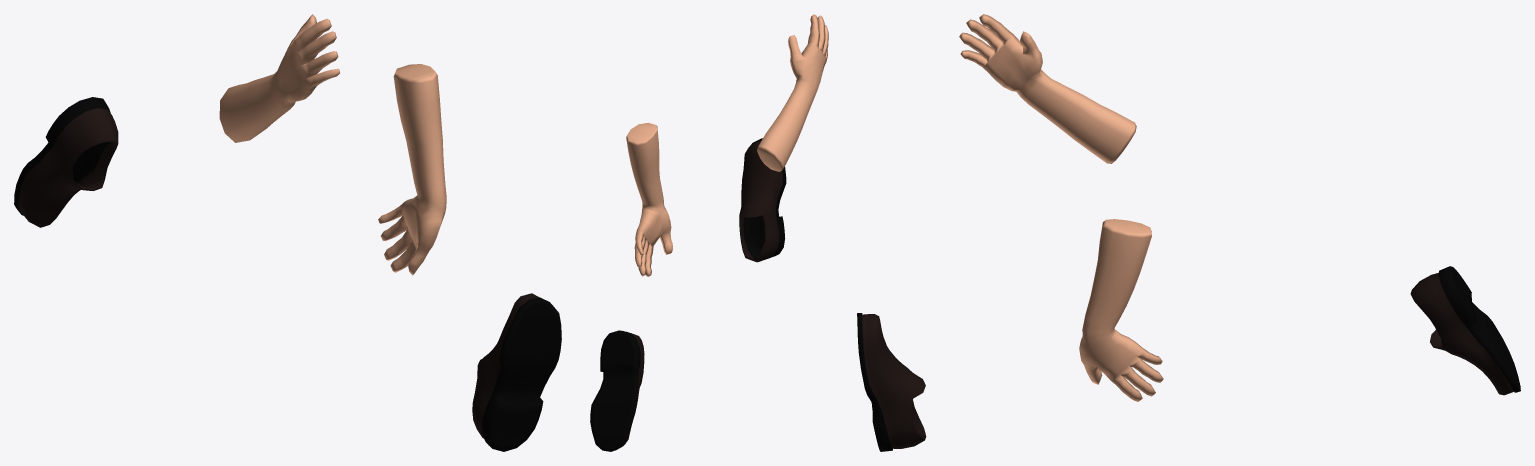
The model's file is RunningPlayer.obj.
3 views of the same model, side by side, from view 1: azimuth 30°, elevation 25°; view 2: azimuth 150°, elevation 25°; view 3: azimuth 270°, elevation 25° (orthographic). The views are drawn at different scales.
Parts seen in each view (by area): view 1: MensBusinessShoes:shoeR1 polySurface2, AnatomyHandHumanMale:hand_basemesh, polySurface1 MensBusinessShoes:shoeR1, hand_basemesh4; view 2: polySurface1 MensBusinessShoes:shoeR1, hand_basemesh4, MensBusinessShoes:shoeR1 polySurface2, AnatomyHandHumanMale:hand_basemesh; view 3: hand_basemesh4, AnatomyHandHumanMale:hand_basemesh, polySurface1 MensBusinessShoes:shoeR1, MensBusinessShoes:shoeR1 polySurface2.
Boxes of the visible parts, x1,y1,x2,y2 form: MensBusinessShoes:shoeR1 polySurface2: [472, 293, 561, 451]; AnatomyHandHumanMale:hand_basemesh: [378, 64, 446, 275]; polySurface1 MensBusinessShoes:shoeR1: [14, 97, 118, 227]; hand_basemesh4: [219, 14, 339, 142]; polySurface1 MensBusinessShoes:shoeR1: [590, 330, 644, 451]; hand_basemesh4: [757, 14, 828, 171]; MensBusinessShoes:shoeR1 polySurface2: [739, 138, 786, 262]; AnatomyHandHumanMale:hand_basemesh: [626, 122, 672, 276]; hand_basemesh4: [959, 14, 1136, 163]; AnatomyHandHumanMale:hand_basemesh: [1079, 219, 1163, 401]; polySurface1 MensBusinessShoes:shoeR1: [1410, 266, 1520, 395]; MensBusinessShoes:shoeR1 polySurface2: [857, 313, 926, 451].
Bounding box in the file's own units: 44.96 × 83.48 × 132.
